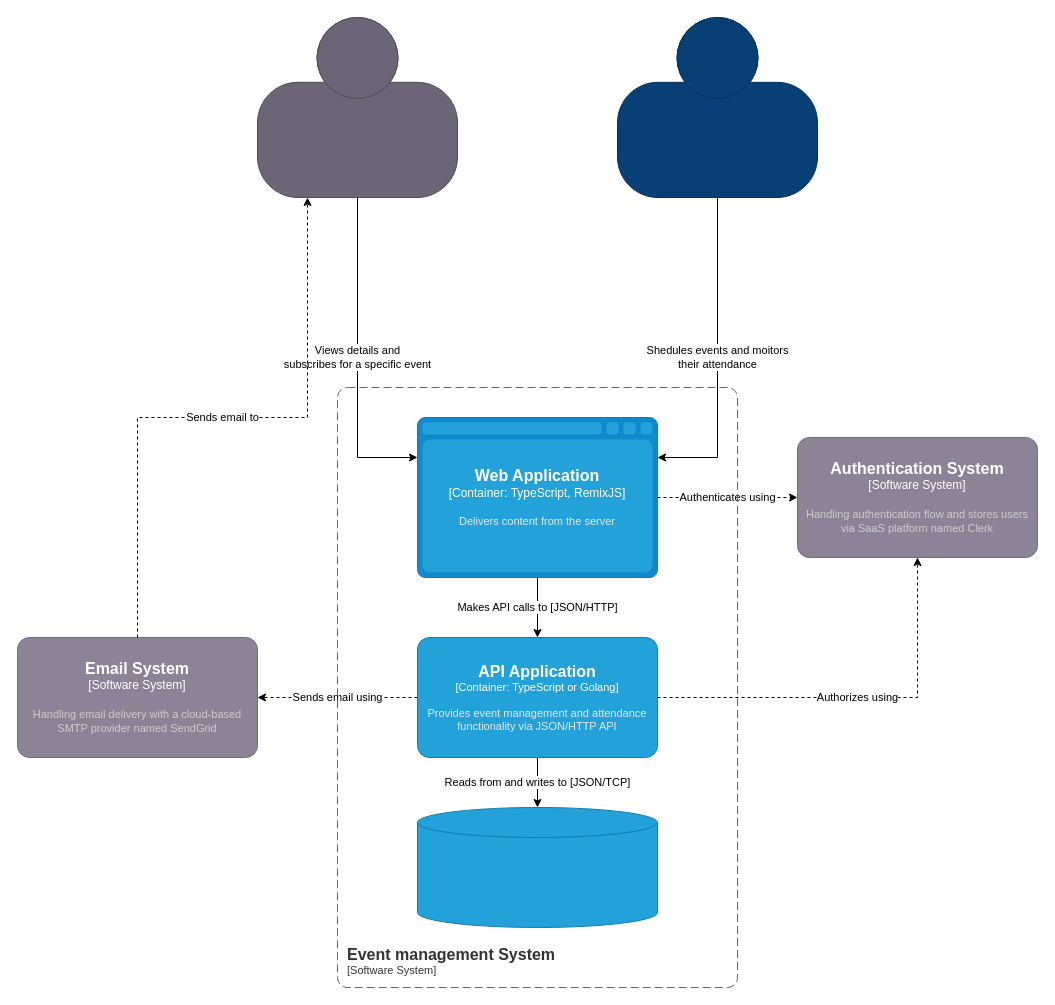
Image size: 1055x1005. Some labels were removed from this diagram. Each missing label, with the centre of its shape:
Attendee [Person] Unauthenticated user: (x=357, y=107)
Database [Container: MongoDB] Stores event details and attendee information: (x=537, y=867)
Organizer [Person] Authenticated user: (x=717, y=107)
